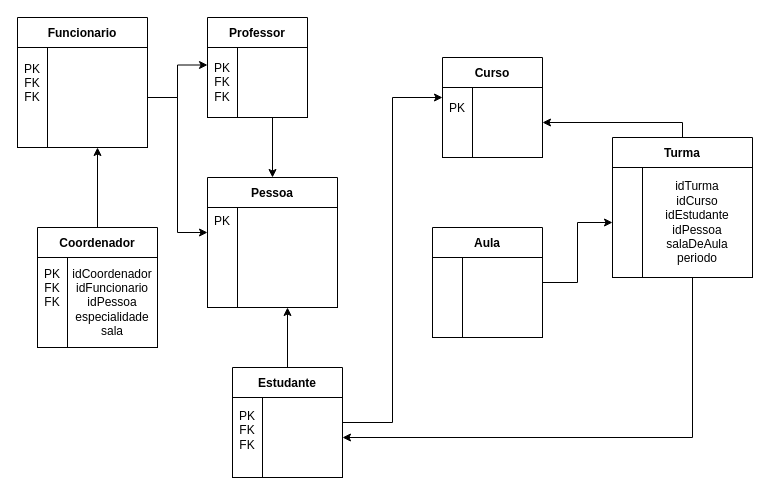
The diagram is 770 pixels wide and 495 high, and some of its shapes have lost their labels. Here are the shapes that lost their labels. From the top down, the box of each, then its label:
(46, 46, 148, 148): idFuncionario idPessoa idProfessor funcao setor
(236, 46, 308, 118): idProfessor idPessoa idTurma
(472, 86, 542, 158): idCurso ementa anosCurso
(612, 166, 642, 278): PK FK FK FK
(236, 206, 338, 308): idPessoa nomePessoa rua cidade estado dataNascimento
(432, 256, 462, 338): PK FK
(462, 256, 542, 338): idAula idTurma materia duracao
(262, 396, 342, 478): idEstudante idPessoa idCurso nota
